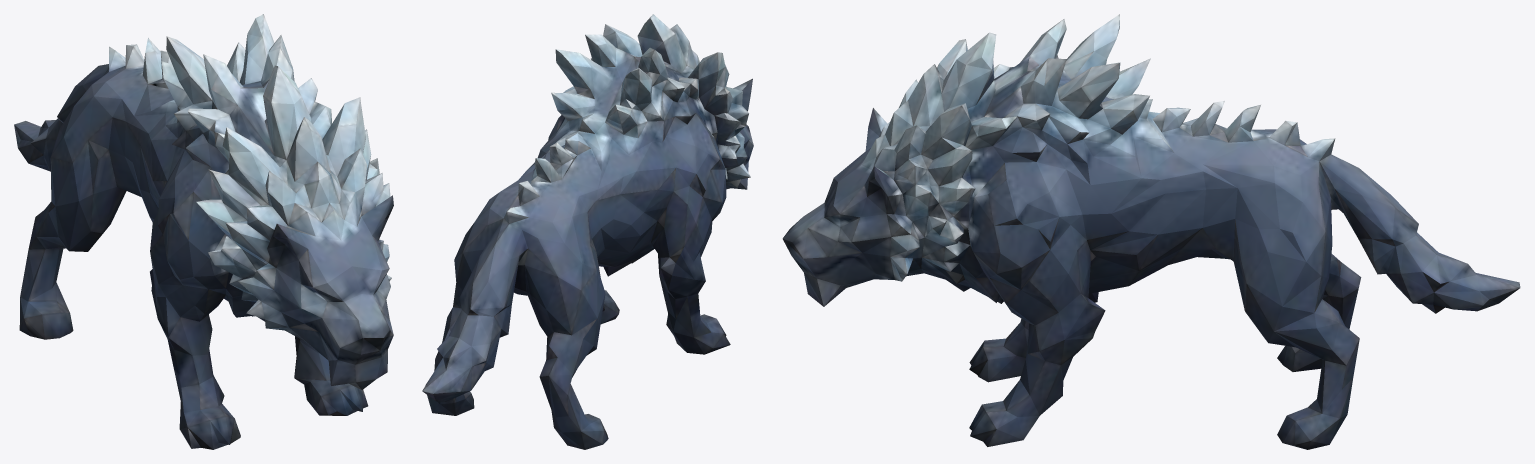
File: foe_rimeWolf.glb
3 renders of one model, left to right at view 1: azimuth 30°, elevation 25°; view 2: azimuth 150°, elevation 25°; view 3: azimuth 270°, elevation 25°, orthographic. The views are drawn at different scales.
Parts seen in each view (by area): view 1: tripo_node_b494911f-ec3b-4638-a7ca-d98c191ca28a.001; view 2: tripo_node_b494911f-ec3b-4638-a7ca-d98c191ca28a.001; view 3: tripo_node_b494911f-ec3b-4638-a7ca-d98c191ca28a.001.
Part boxes in pixels (x1,y1,x2,y2): tripo_node_b494911f-ec3b-4638-a7ca-d98c191ca28a.001: (14,14,393,449); tripo_node_b494911f-ec3b-4638-a7ca-d98c191ca28a.001: (422,14,753,449); tripo_node_b494911f-ec3b-4638-a7ca-d98c191ca28a.001: (782,14,1520,449).
Size of the model in its own units: 0.3254 by 0.5498 by 0.9937.
1 material, 1 textured.
